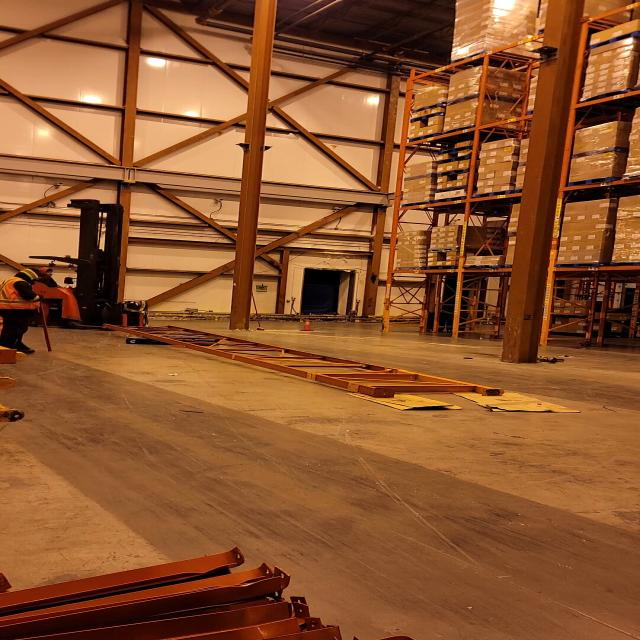forklift: (21, 201, 152, 332)
human: (0, 267, 45, 353), (27, 265, 67, 288)
objectofinterest: (94, 320, 516, 399), (445, 381, 586, 414), (343, 389, 466, 413), (123, 333, 158, 348)
